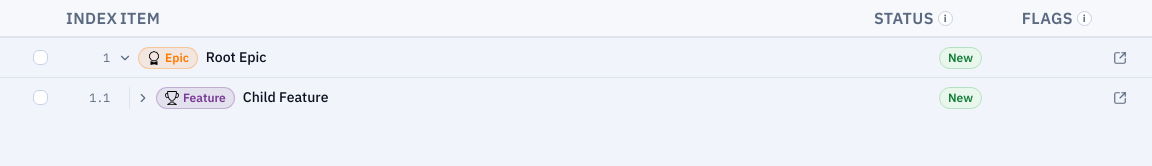
Scenario: DiffTree › renders customerId as a separate badge next to the title, distinct from the row index
Click the button named "expand child feature": (143, 98) [134,88,152,106]
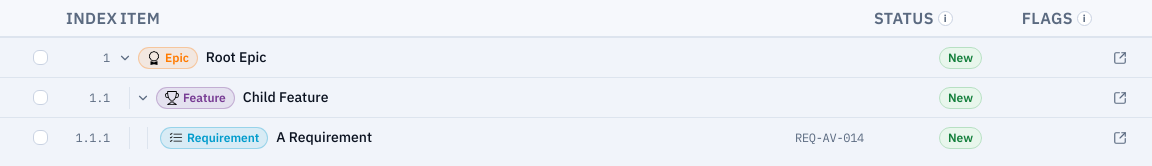
Now the text "1.1.1" is shown, box [76,130,110,144]
Now the text "REQ-AV-014" is shown, box [795,130,864,146]
